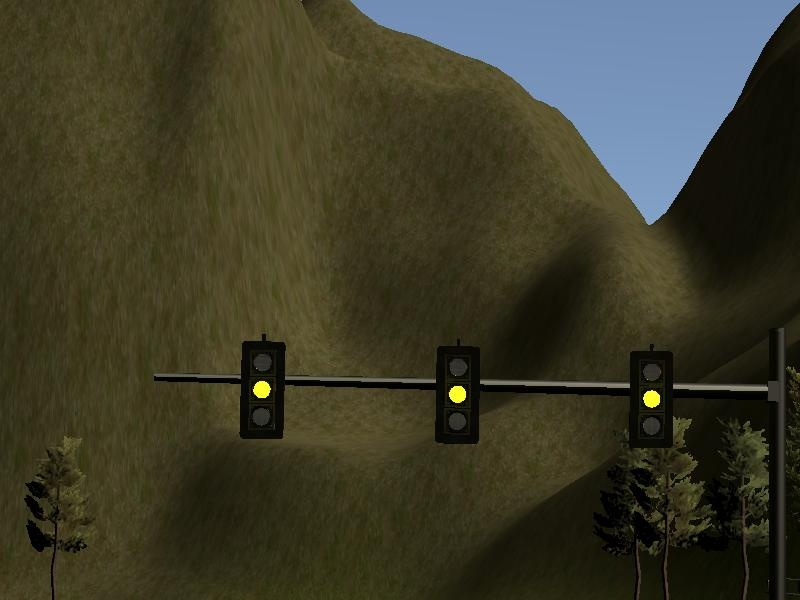yellow: (233, 330, 290, 448), (429, 333, 485, 452), (622, 338, 679, 452)
